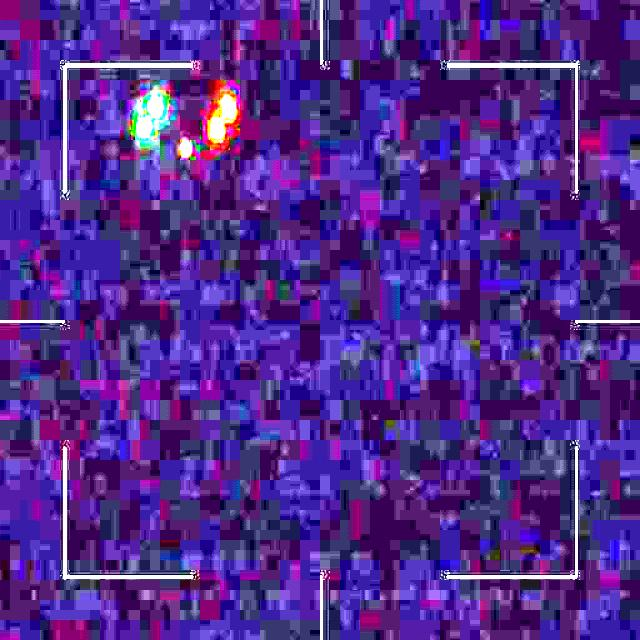bird: (136, 90, 238, 154)
